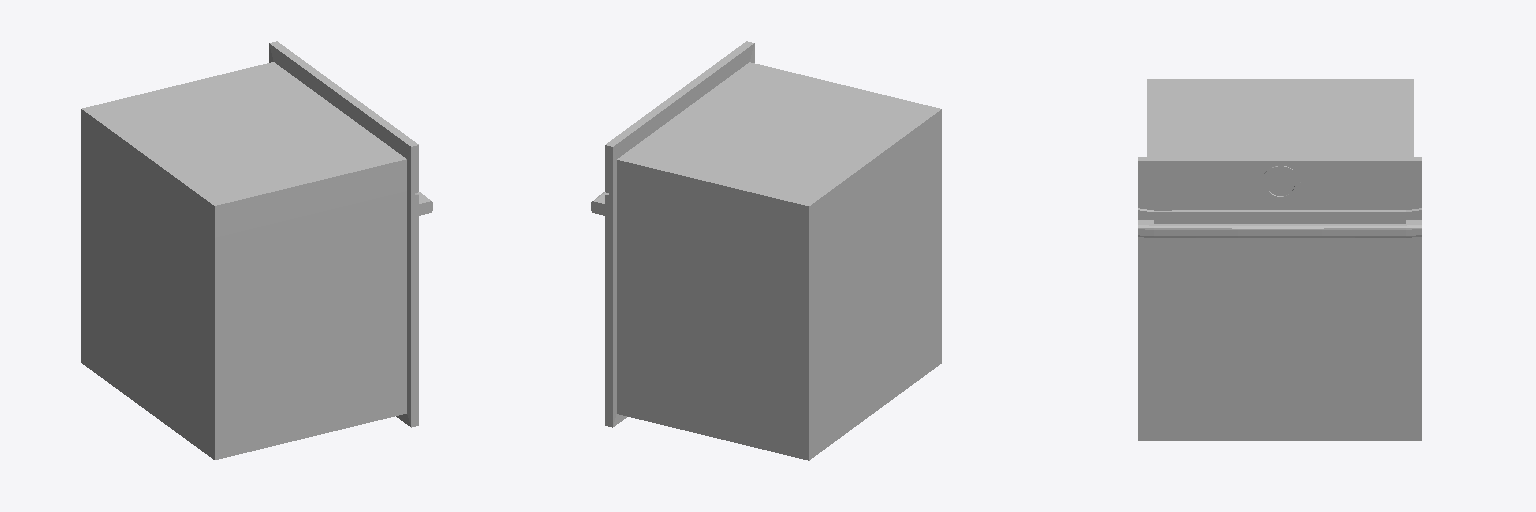
Rendered from BOSCH HBG 636 LB.obj.
3 renders of one model, left to right at view 1: azimuth 30°, elevation 25°; view 2: azimuth 150°, elevation 25°; view 3: azimuth 270°, elevation 25°, orthographic.
Parts seen in each view (by area): view 1: BOSCH_HBG_636_LB; view 2: BOSCH_HBG_636_LB; view 3: BOSCH_HBG_636_LB.
Part boxes in pixels (x1,y1,x2,y2): BOSCH_HBG_636_LB: (81,41,432,459); BOSCH_HBG_636_LB: (591,41,941,460); BOSCH_HBG_636_LB: (1138,79,1421,440).
Size of the model in its own units: 20.75 by 25.79 by 23.61.